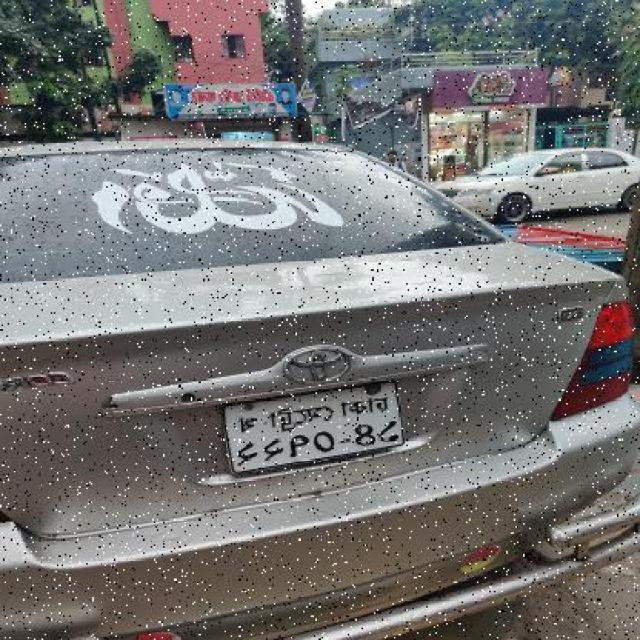numberplate: (220, 378, 405, 476)
